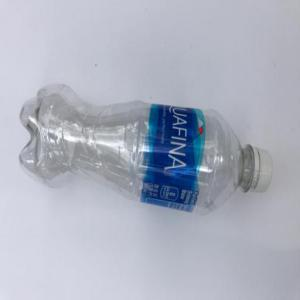Plastic-bottle: (19, 82, 274, 217)
